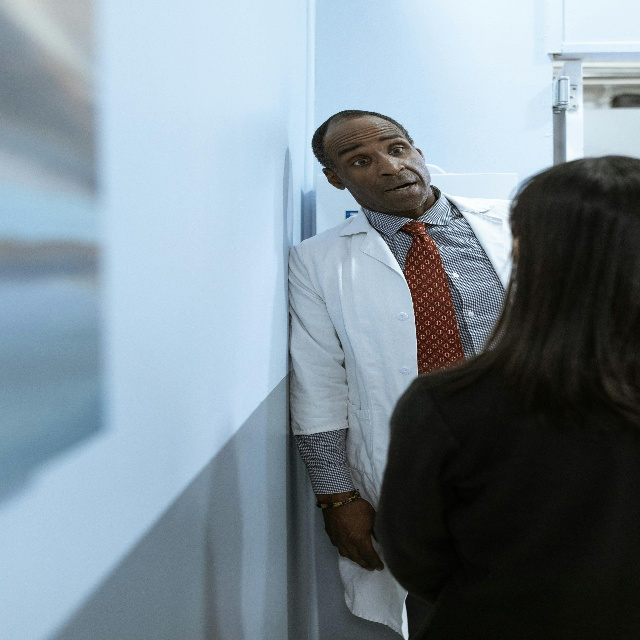Sin_guantes: (320, 496, 385, 573)
